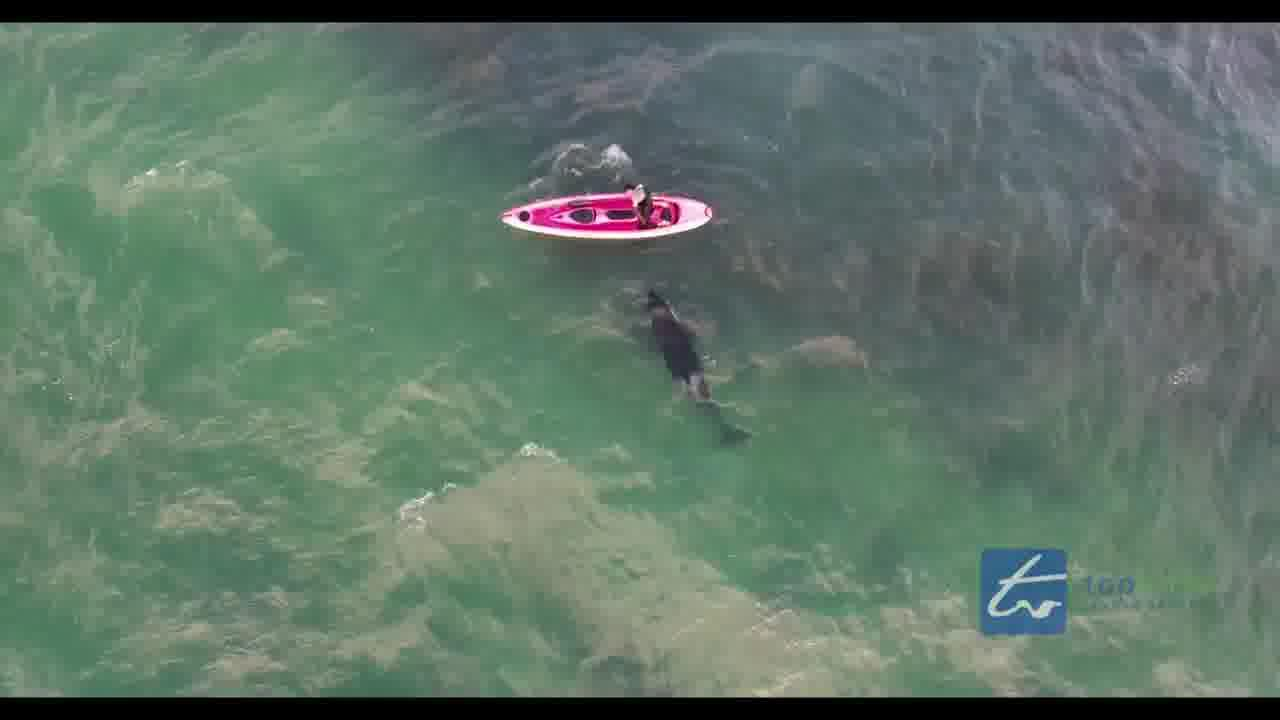swimmer: (626, 180, 656, 235)
